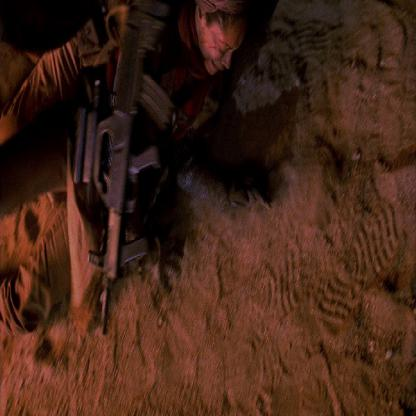Gun: (82, 0, 174, 349)
